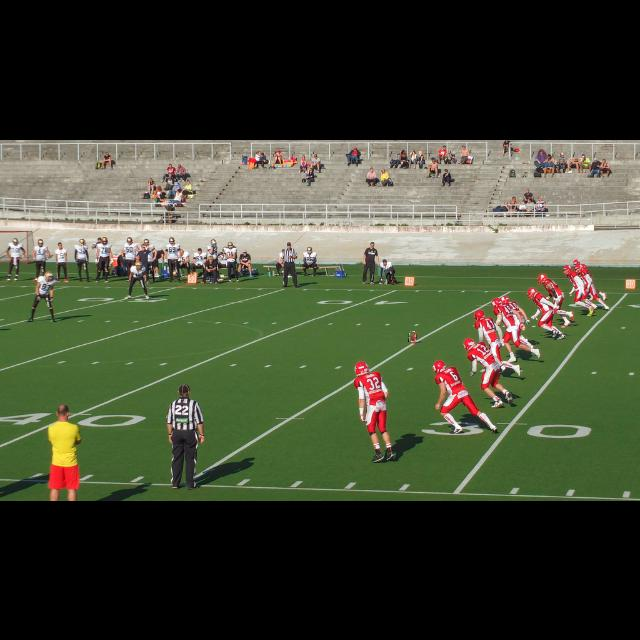Football: (408, 332, 416, 342)
